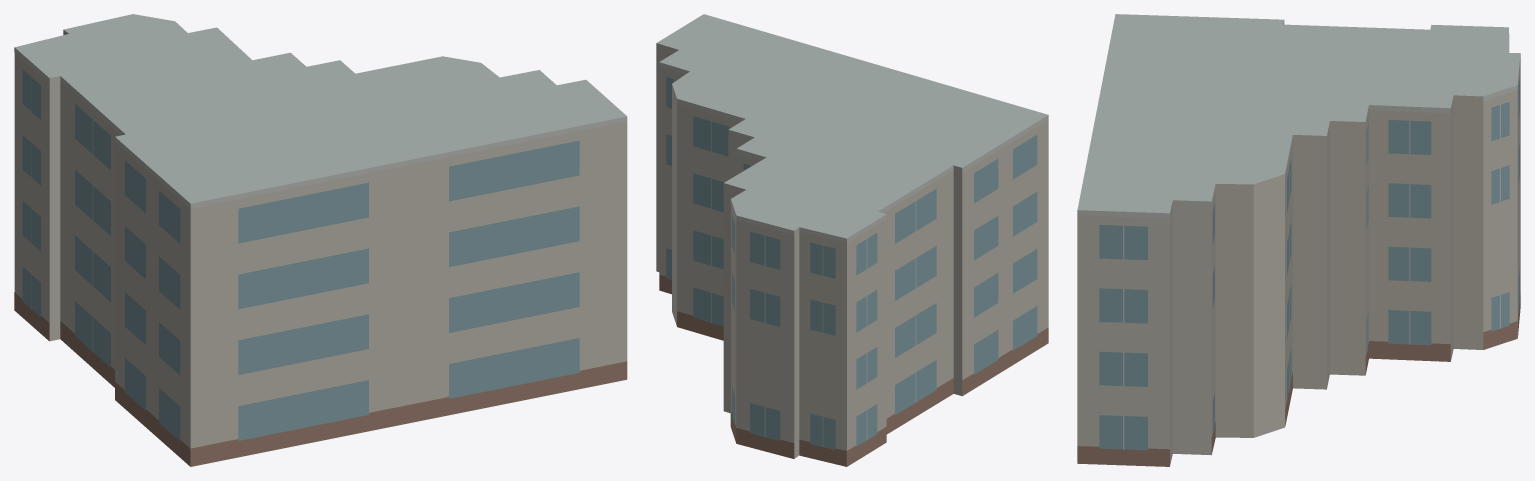
The model's file is survey-upis-32633603.glb.
The picture shows the model from 3 angles, left to right: view 1: azimuth 30°, elevation 25°; view 2: azimuth 150°, elevation 25°; view 3: azimuth 270°, elevation 25°; orthographic projection. The views are drawn at different scales.
Visible parts, largest first — view 1: survey-upis-32633603.tmp; view 2: survey-upis-32633603.tmp; view 3: survey-upis-32633603.tmp.
Part boxes in pixels (x1,y1,x2,y2): survey-upis-32633603.tmp: [14, 14, 627, 466]; survey-upis-32633603.tmp: [656, 14, 1048, 466]; survey-upis-32633603.tmp: [1077, 14, 1520, 466].
Bounding box in the file's own units: 20.23 × 12 × 19.02.
